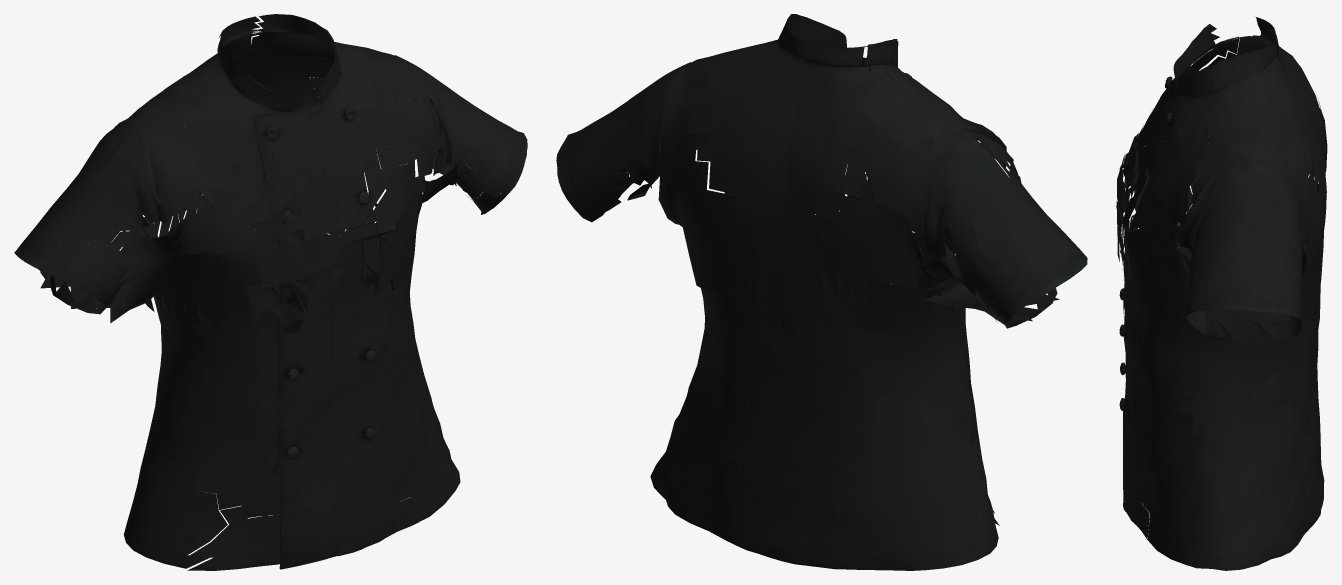
File: dante.glb
The picture shows the model from 3 angles, left to right: view 1: azimuth 30°, elevation 25°; view 2: azimuth 150°, elevation 25°; view 3: azimuth 270°, elevation 25°; orthographic projection. The views are drawn at different scales.
Parts seen in each view (by area): view 1: geometry_0; view 2: geometry_0; view 3: geometry_0.
Part boxes in pixels (x1,y1,x2,y2): geometry_0: (14,14,527,570); geometry_0: (556,14,1087,570); geometry_0: (1116,17,1327,570).
Size of the model in its own units: 0.792 by 0.7371 by 0.3051.
1 material, 1 textured.
